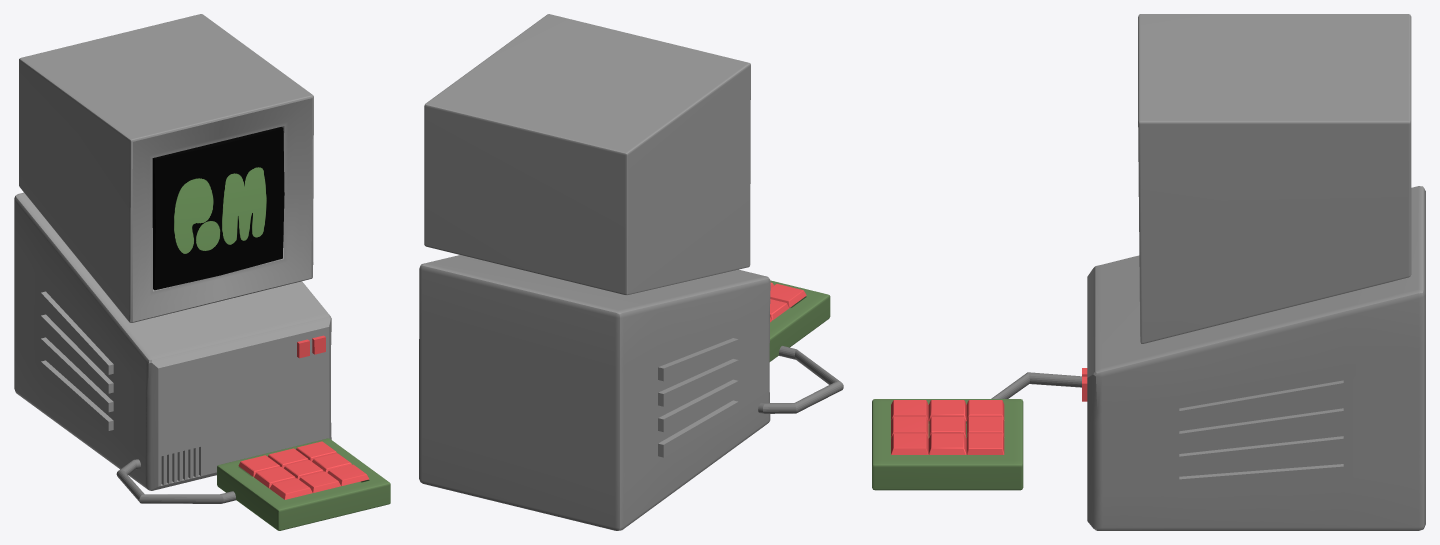
File: computer.glb
The picture shows the model from 3 angles, left to right: view 1: azimuth 30°, elevation 25°; view 2: azimuth 150°, elevation 25°; view 3: azimuth 270°, elevation 25°; orthographic projection. The views are drawn at different scales.
Visible parts, largest first — view 1: Bottom, monitor, Screen, Kastje, Draadje, Toets_Linksonder, Toets_middenonder, Toets_rechtsonder, Toets_linksmidden, Toets_linkstop, Toets_rechtstop, Toets_middentop (+2 smaller); view 2: Bottom, monitor, Kastje, Draadje, Toets_Linksonder; view 3: monitor, Bottom, Kastje, Draadje, Toets_rechtstop, Toets_rechtsmidden, Toets_rechtsonder, Toets_middentop, Toets_linksmidden, Toets_linkstop, Toets_middenonder, Toets_Linksonder.
Boxes of the visible parts, bbox=[...] form: Bottom: bbox=[14, 192, 331, 490]; monitor: bbox=[19, 14, 313, 322]; Screen: bbox=[152, 127, 284, 290]; Kastje: bbox=[217, 438, 390, 530]; Draadje: bbox=[116, 459, 235, 503]; Toets_Linksonder: bbox=[269, 478, 312, 499]; Toets_middenonder: bbox=[299, 471, 340, 492]; Toets_rechtsonder: bbox=[327, 464, 368, 485]; Toets_linksmidden: bbox=[254, 466, 295, 488]; Toets_linkstop: bbox=[238, 455, 279, 476]; Toets_rechtstop: bbox=[296, 441, 336, 461]; Toets_middentop: bbox=[268, 448, 308, 468]; Bottom: bbox=[419, 255, 770, 530]; monitor: bbox=[424, 14, 750, 295]; Kastje: bbox=[769, 280, 830, 361]; Draadje: bbox=[758, 346, 843, 413]; Toets_Linksonder: bbox=[770, 284, 806, 307]; monitor: bbox=[1138, 14, 1411, 343]; Bottom: bbox=[1082, 186, 1425, 530]; Kastje: bbox=[872, 399, 1023, 490]; Draadje: bbox=[991, 372, 1081, 398]; Toets_rechtstop: bbox=[966, 433, 1004, 454]; Toets_rechtsmidden: bbox=[928, 433, 966, 454]; Toets_rechtsonder: bbox=[891, 433, 928, 454]; Toets_middentop: bbox=[966, 416, 1004, 437]; Toets_linksmidden: bbox=[928, 400, 966, 421]; Toets_linkstop: bbox=[966, 400, 1004, 420]; Toets_middenonder: bbox=[891, 417, 928, 437]; Toets_Linksonder: bbox=[891, 400, 928, 420].
Size of the model in its own units: 7.02 by 10.09 by 12.31.
5 materials, 1 textured.
